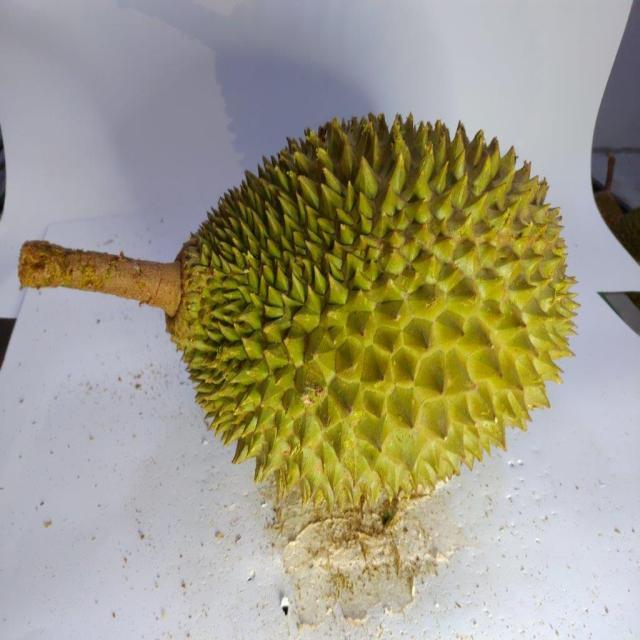immature: (165, 111, 583, 510)
